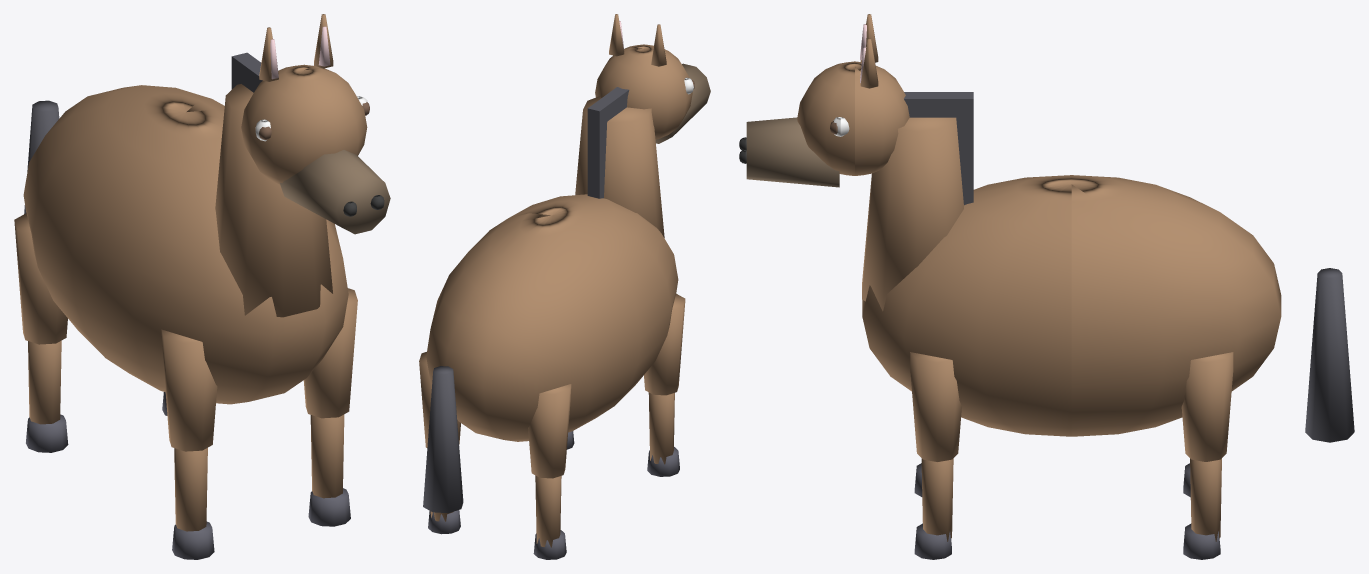
File: 51f16c5b-b50c-4dab-9fe7-8e51dcdbb8da.glb
3 views of the same model, side by side, from view 1: azimuth 30°, elevation 25°; view 2: azimuth 150°, elevation 25°; view 3: azimuth 270°, elevation 25° (orthographic). The views are drawn at different scales.
Parts seen in each view (by area): view 1: Generated3DMesh; view 2: Generated3DMesh; view 3: Generated3DMesh.
Part boxes in pixels (left/top/right/bottom): Generated3DMesh: left=14, top=14, right=390, bottom=559; Generated3DMesh: left=419, top=14, right=710, bottom=559; Generated3DMesh: left=739, top=14, right=1354, bottom=559.
Bounding box in the file's own units: 1.17 × 2.64 × 2.98.
